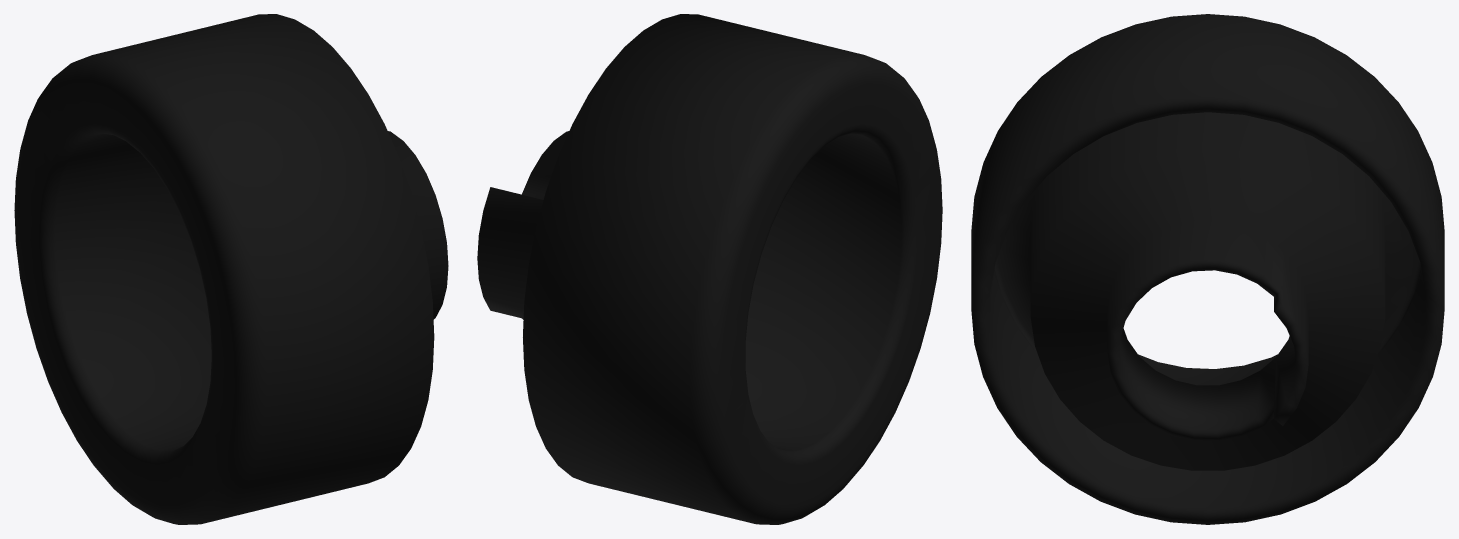
The model's file is RearWheelRight.obj.
The picture shows the model from 3 angles, left to right: view 1: azimuth 30°, elevation 25°; view 2: azimuth 150°, elevation 25°; view 3: azimuth 270°, elevation 25°; orthographic projection.
Parts seen in each view (by area): view 1: RearWheelRight; view 2: RearWheelRight; view 3: RearWheelRight.
Part boxes in pixels (x1,y1,x2,y2): RearWheelRight: (14,14,448,524); RearWheelRight: (477,14,942,524); RearWheelRight: (971,14,1444,524).
Size of the model in its own units: 0.029 by 0.04 by 0.04.
1 material, 1 textured.
